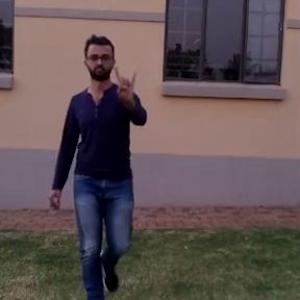takeoff-hand: (111, 64, 144, 116)
